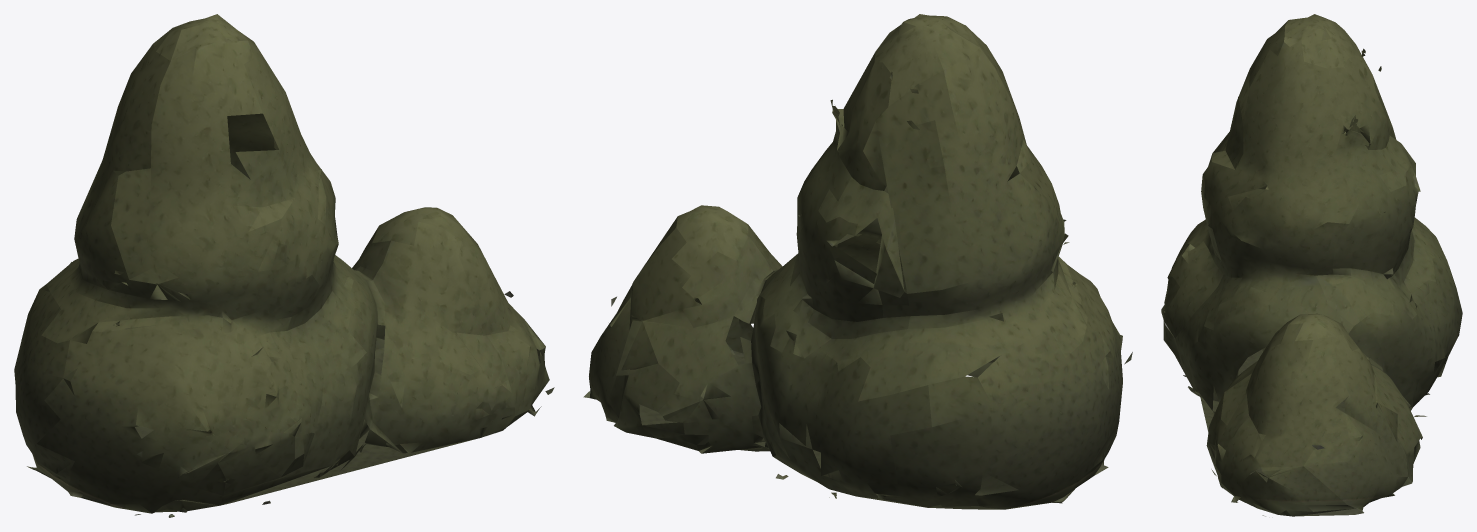
Rendered from wh-bush-b-meshy.glb.
3 views of the same model, side by side, from view 1: azimuth 30°, elevation 25°; view 2: azimuth 150°, elevation 25°; view 3: azimuth 270°, elevation 25° (orthographic). The views are drawn at different scales.
Size of the model in its own units: 1.81 by 1.49 by 1.11.
1 material, 1 textured.
